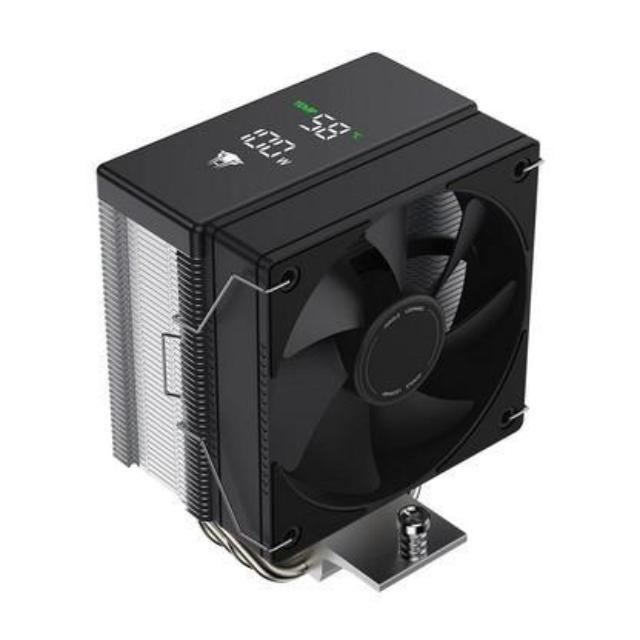CPU_Fan: (78, 37, 564, 615)
